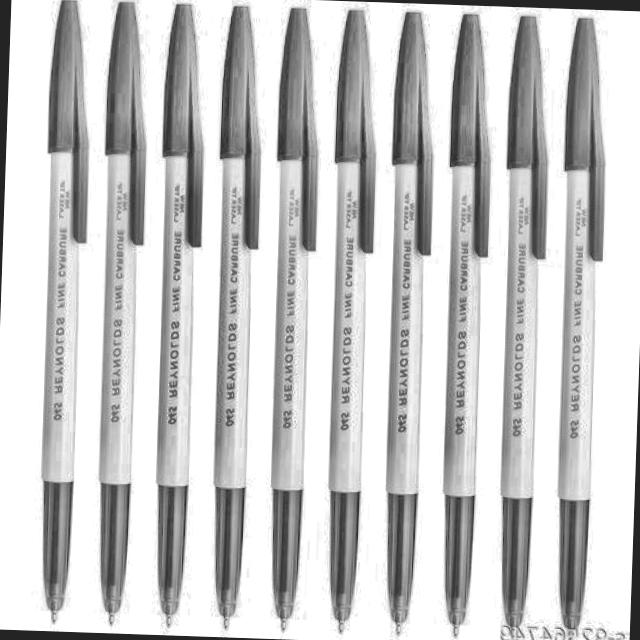Pen: (29, 0, 267, 636), (260, 1, 440, 640), (433, 12, 555, 640), (548, 11, 614, 633)
